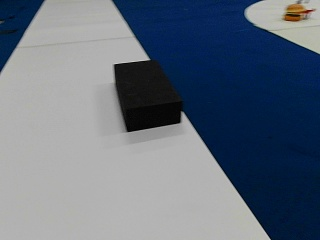block: (114, 61, 180, 130)
